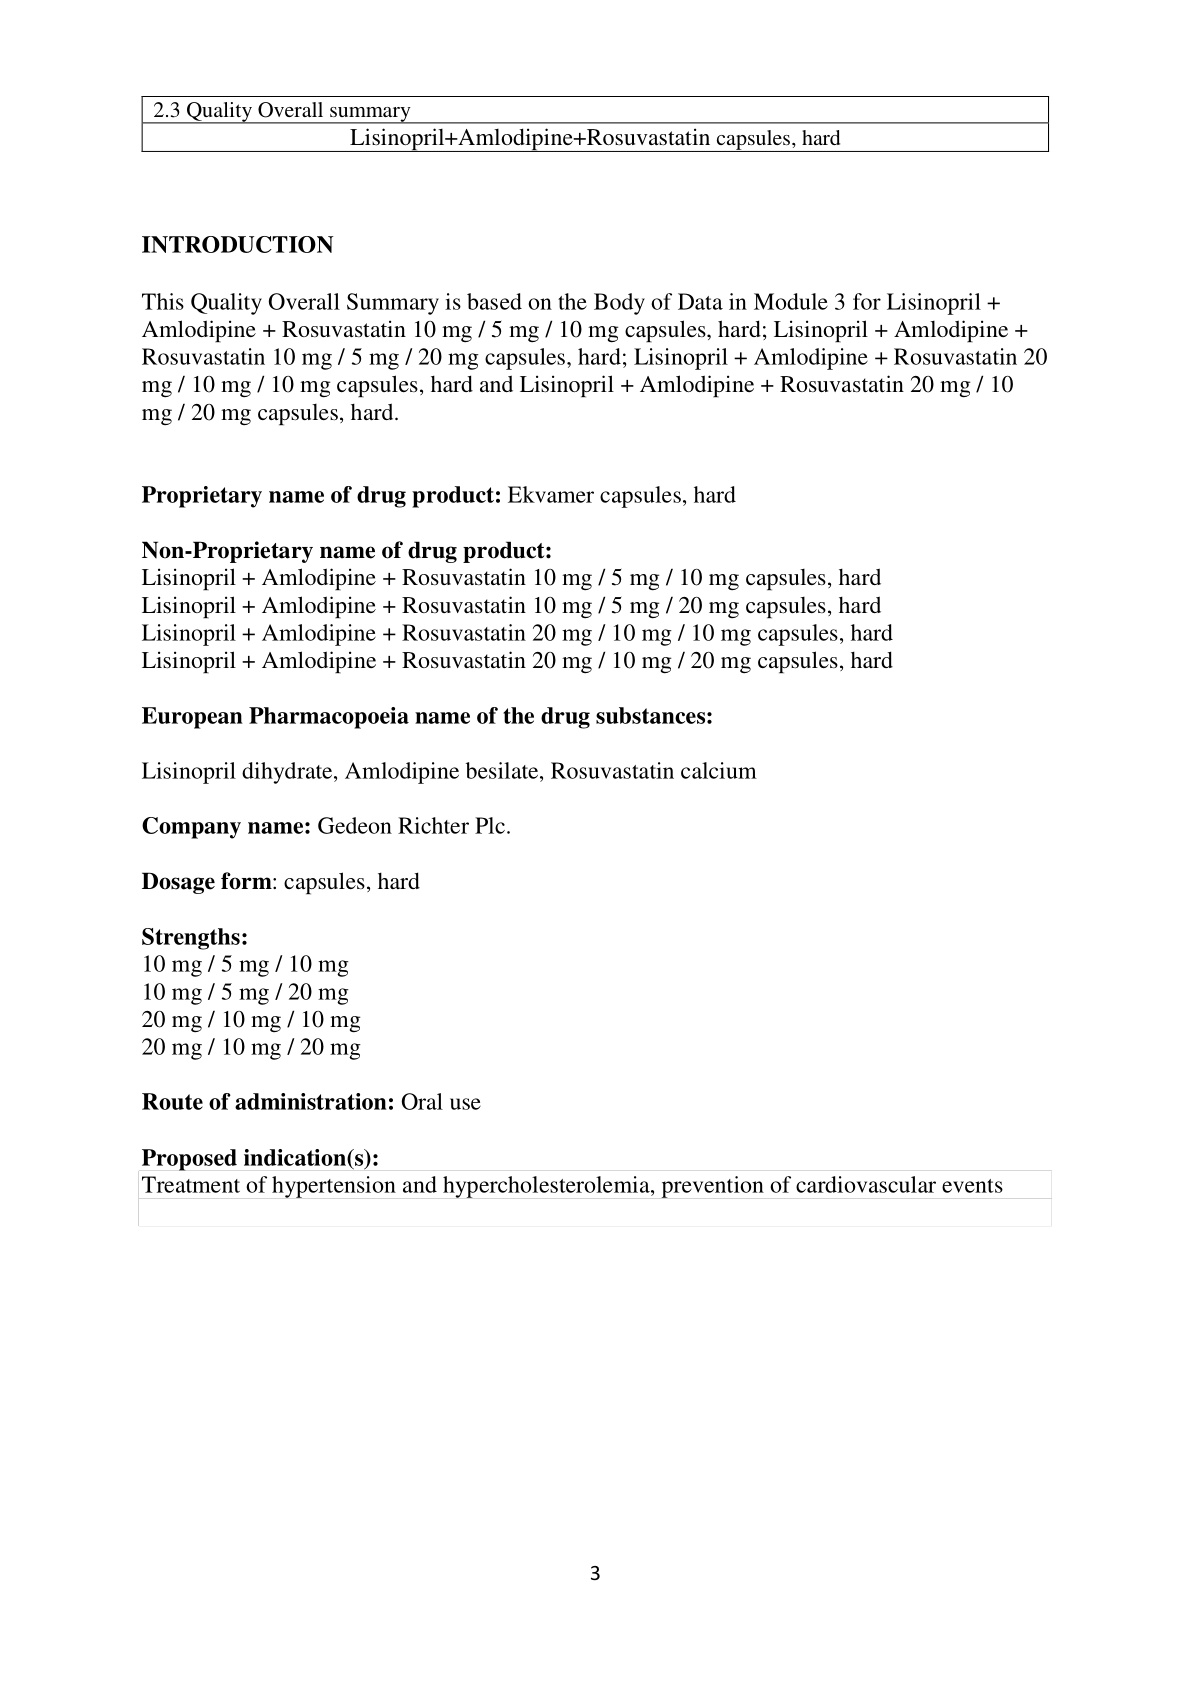full_lined: (140, 94, 1051, 153)
